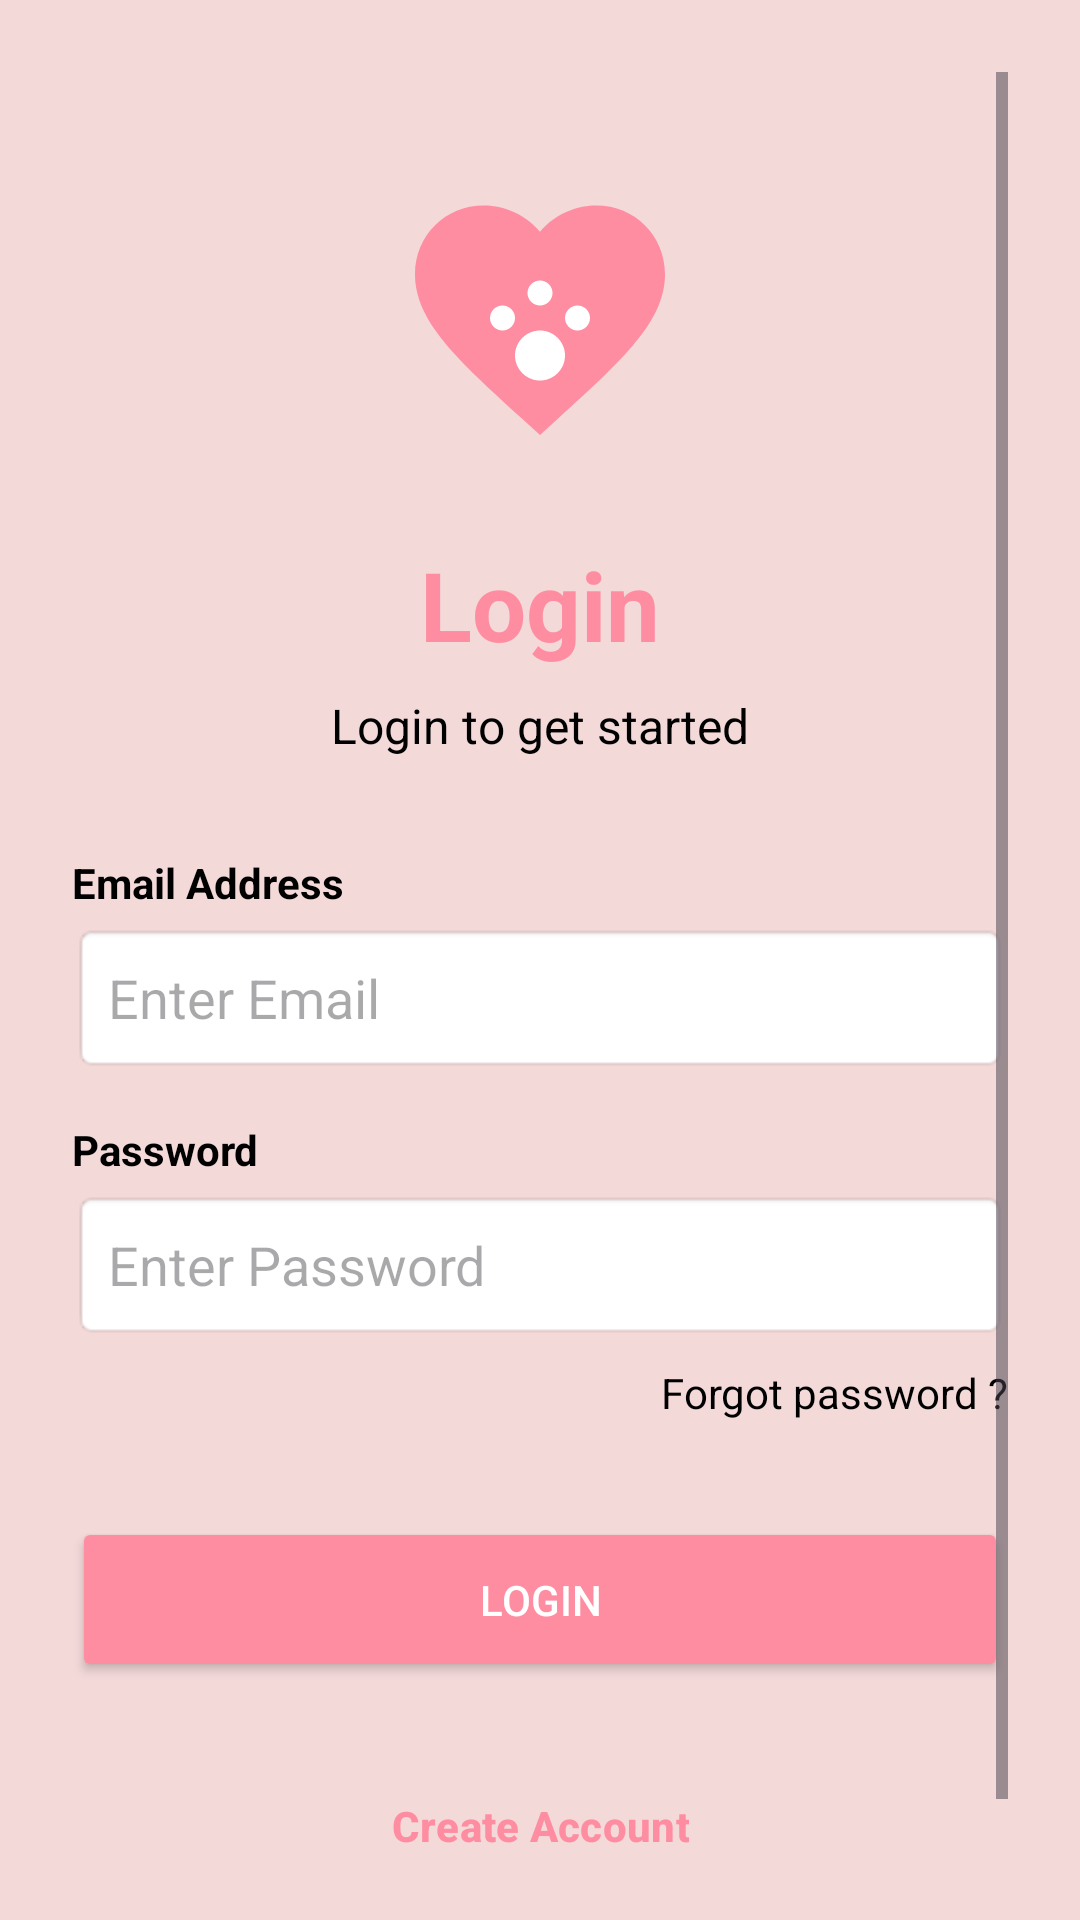

Icon click points for this 1080px x 1920px phone screenshot, format (x=x, y=y):
heart paw: (x=540, y=320)
